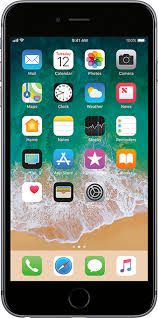iphone: (1, 1, 156, 318)
iphone6: (1, 1, 158, 318)
